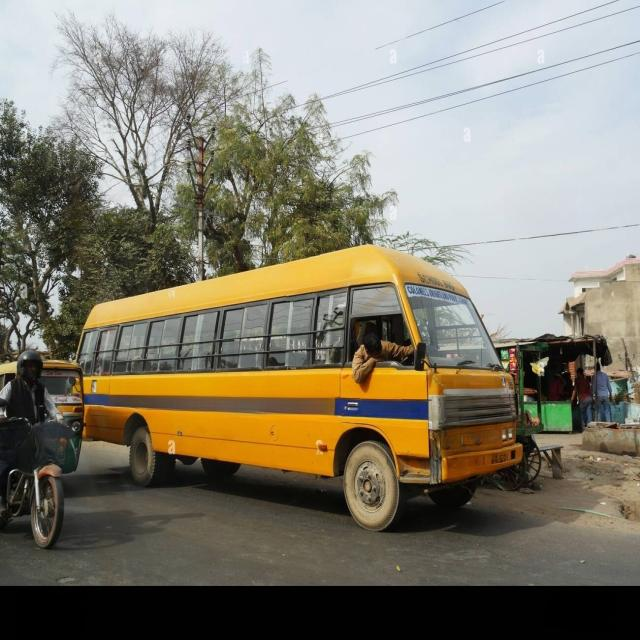bus: (78, 246, 521, 529)
